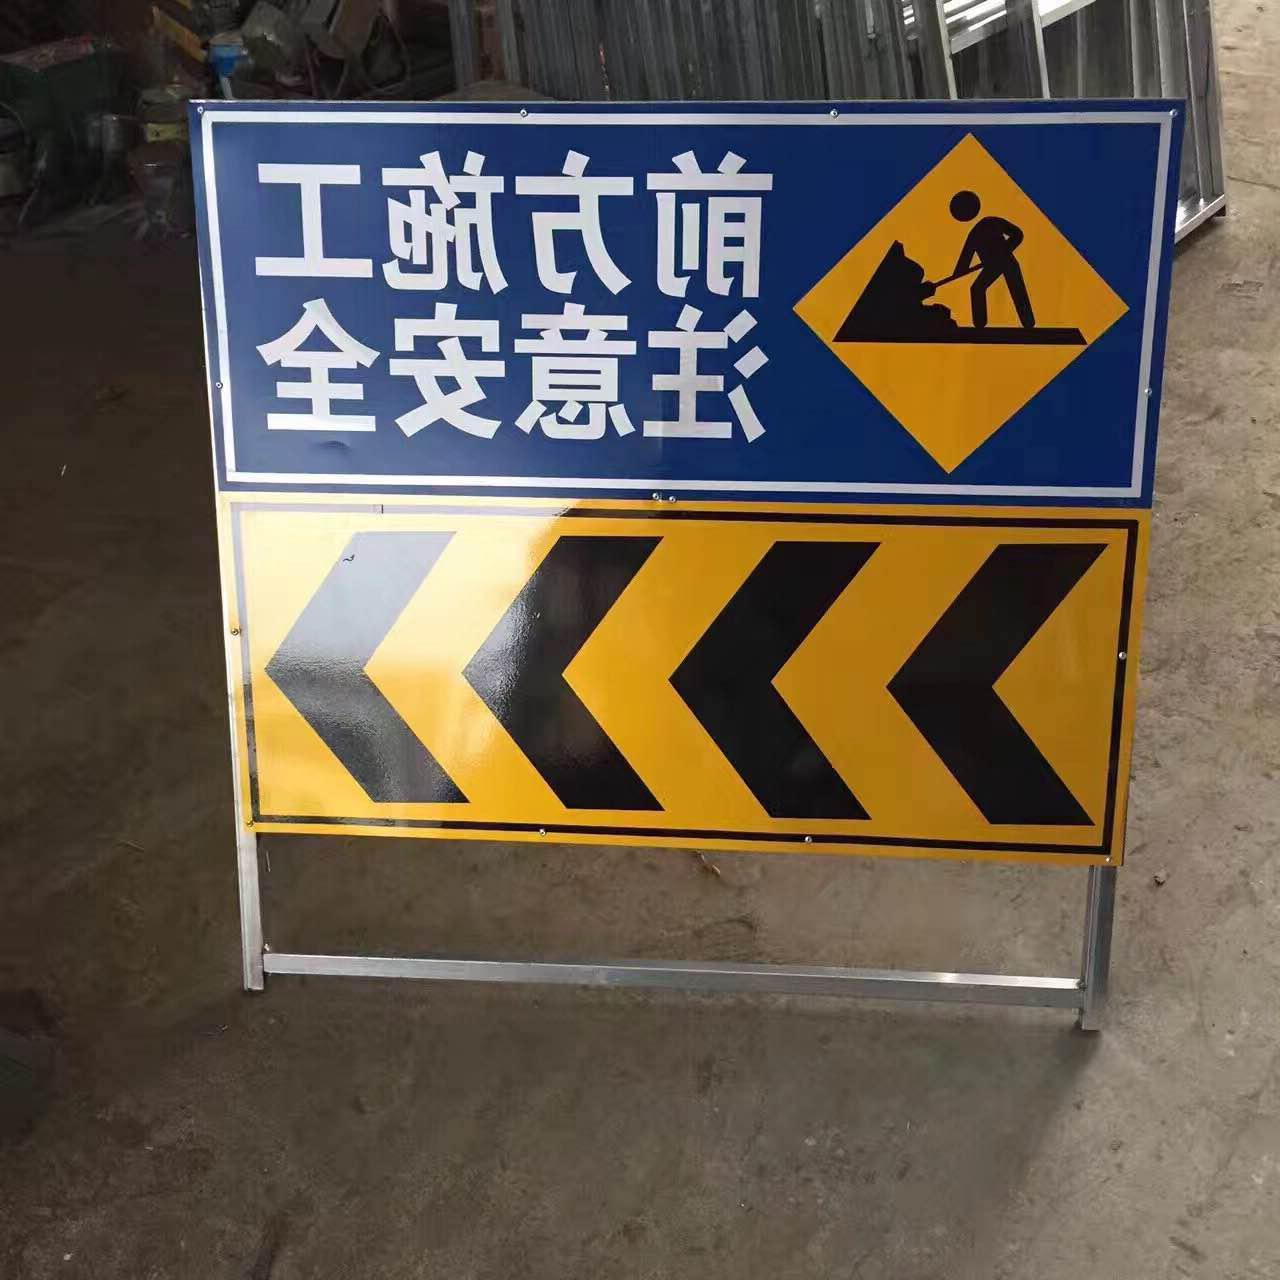sign: (190, 108, 1178, 869)
